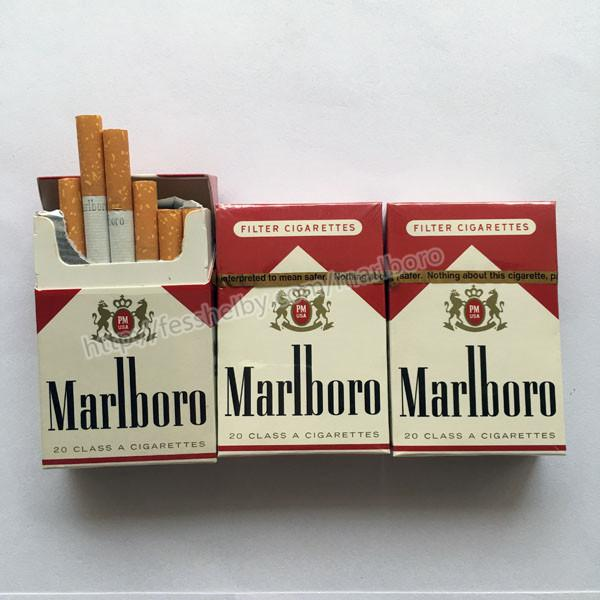marlboro_red: (387, 204, 562, 457), (217, 206, 389, 454), (36, 231, 214, 467)
